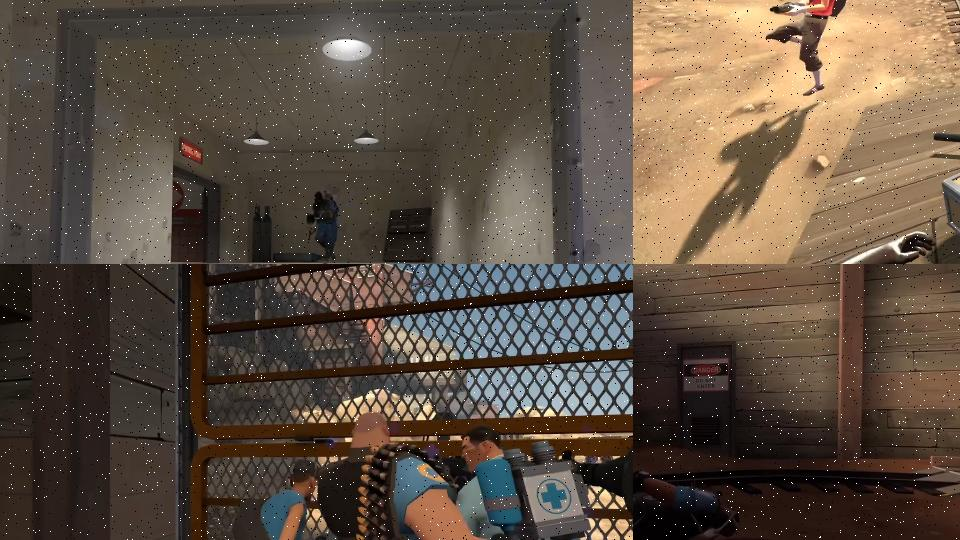Enemy: (316, 410, 525, 540), (421, 423, 610, 540), (764, 0, 848, 97), (633, 467, 744, 540), (231, 457, 326, 540), (305, 189, 340, 264)
